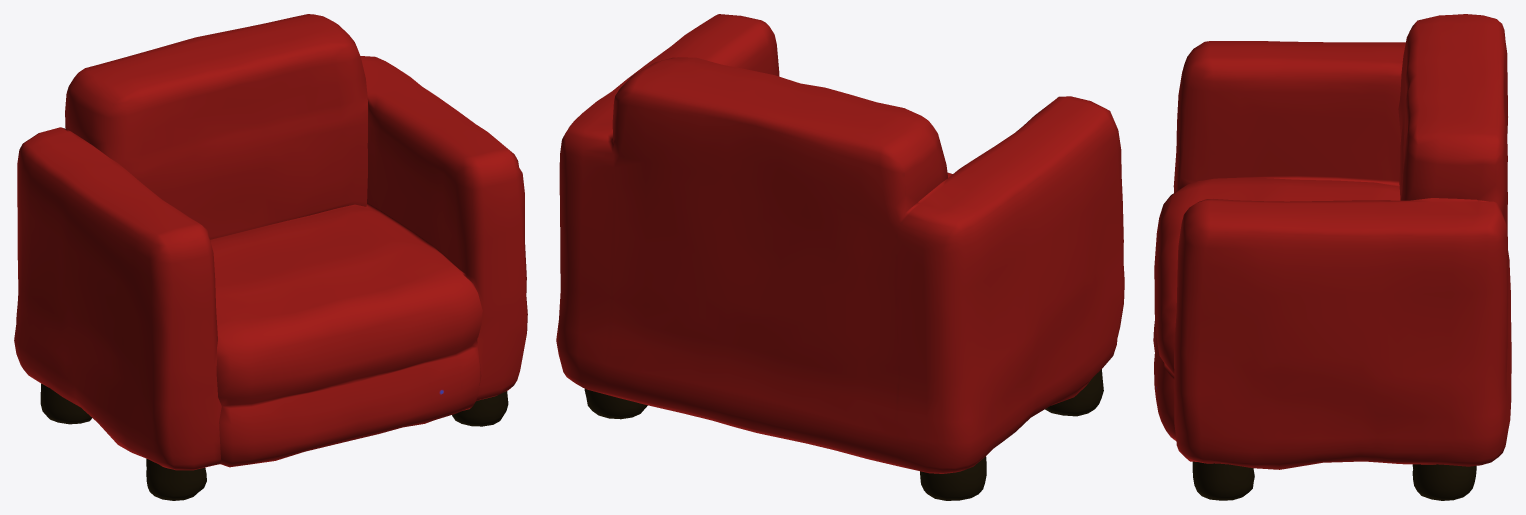
File: Sofa.fbx
The picture shows the model from 3 angles, left to right: view 1: azimuth 30°, elevation 25°; view 2: azimuth 150°, elevation 25°; view 3: azimuth 270°, elevation 25°; orthographic projection. The views are drawn at different scales.
Parts seen in each view (by area): view 1: node_id30; view 2: node_id30; view 3: node_id30.
Part boxes in pixels (x1,y1,x2,y2): node_id30: (14, 14, 527, 500); node_id30: (556, 14, 1124, 500); node_id30: (1153, 14, 1511, 500).
Size of the model in its own units: 0.5362 by 0.4282 by 0.4084.
Materials: 1 (1 with a texture image).
